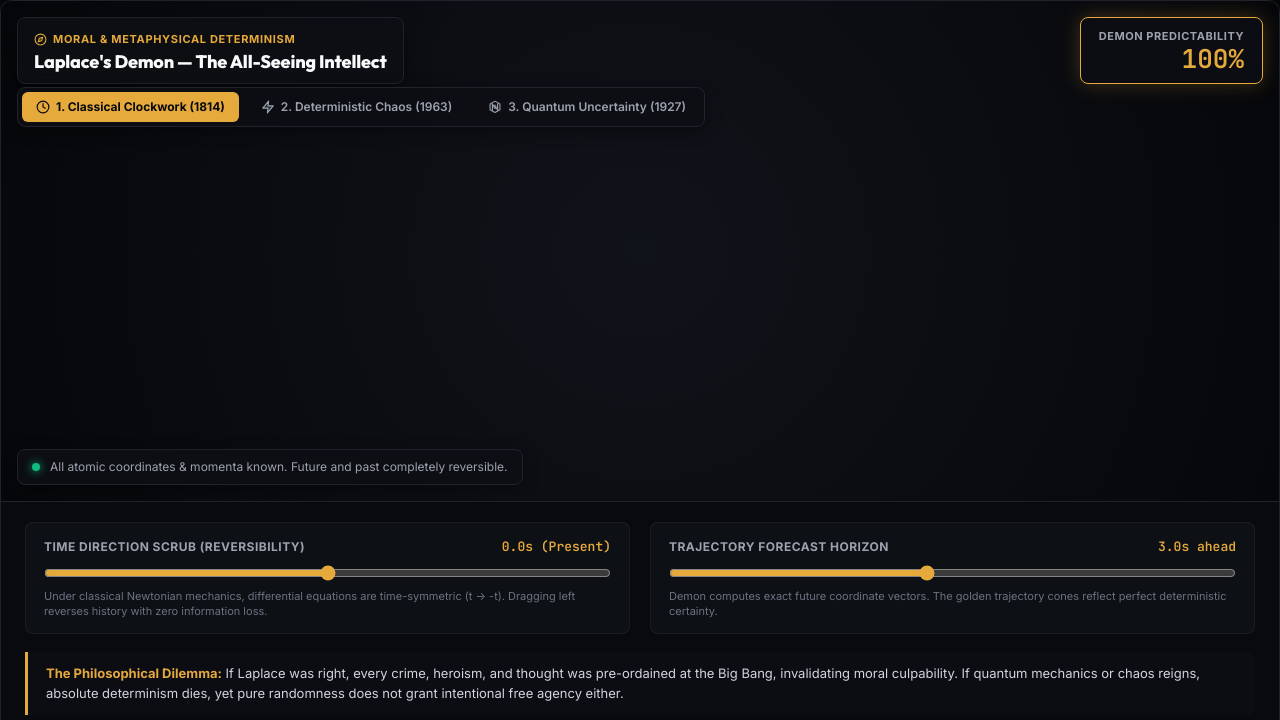
Test: LaplacesDemon3DLab › switches between Classical Clockwork, Chaos, and Quantum modes
// Click Deterministic Chaos
Click the button "2. Deterministic Chaos (1963)" at (356, 107), box top-left (247, 92), bottom-right (466, 122)
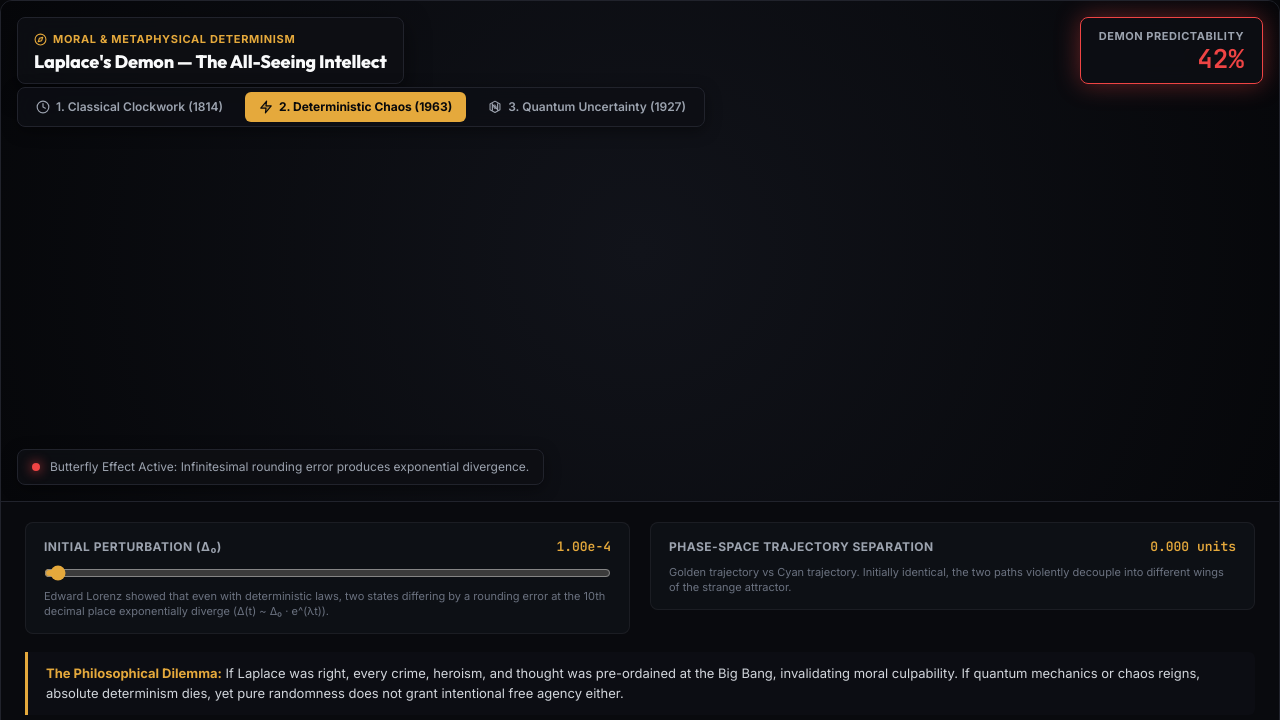
Result: the text "Initial Perturbation (Δ₀)" is shown at top-left (44, 538), bottom-right (222, 556)
Result: the text "Phase-Space Trajectory Separation" is shown at top-left (669, 538), bottom-right (934, 556)
// Click Quantum Uncertainty
Click the button "3. Quantum Uncertainty (1927)" at (587, 107), box top-left (474, 92), bottom-right (700, 122)
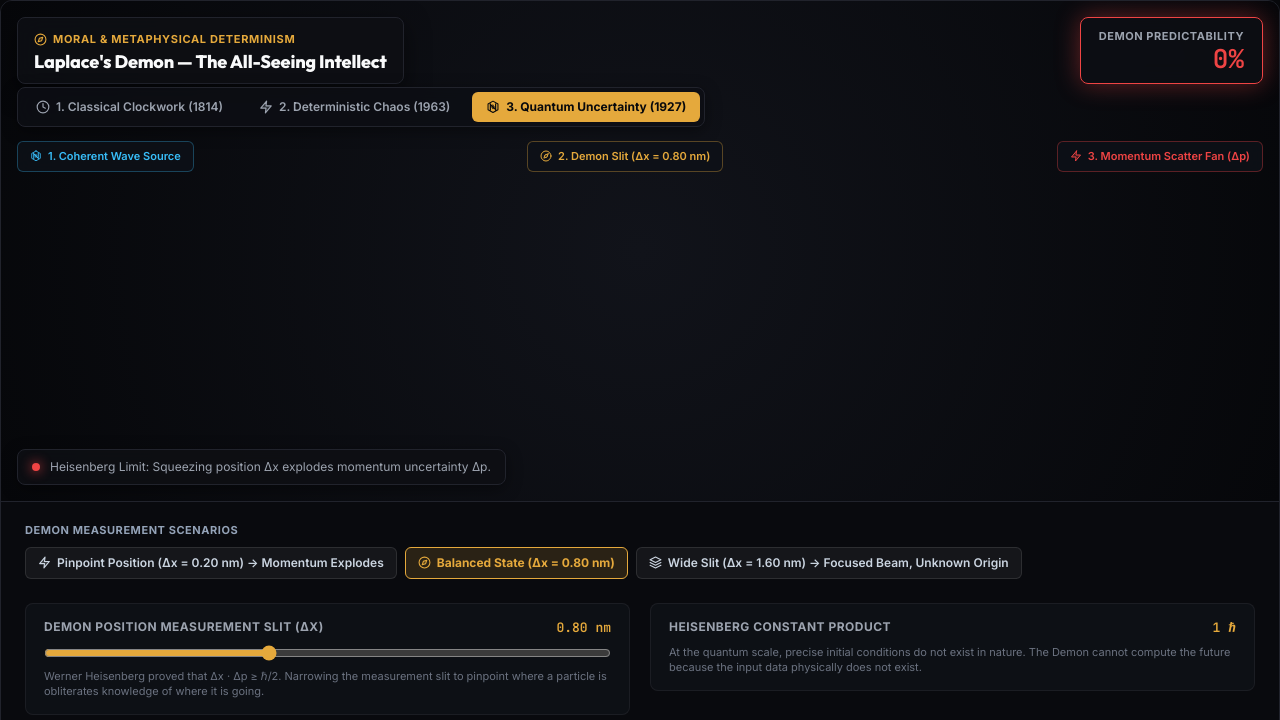
Result: the text "Demon Position Measurement Slit (Δx)" is shown at top-left (44, 618), bottom-right (324, 636)
Result: the text "Heisenberg Constant Product" is shown at top-left (669, 618), bottom-right (891, 636)
// Click Classical Clockwork back
Click the button "1. Classical Clockwork (1814)" at (129, 107), box top-left (22, 92), bottom-right (237, 122)
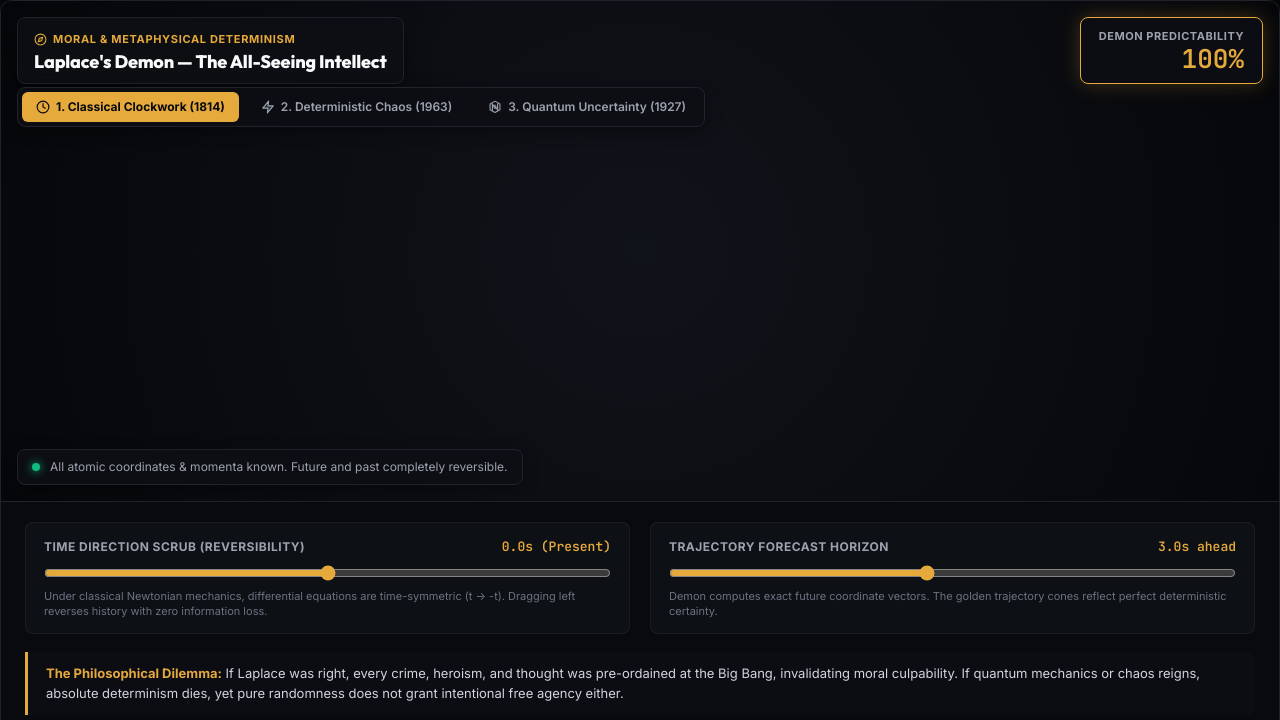
Result: the text "Time Direction Scrub (Reversibility)" is shown at top-left (44, 538), bottom-right (305, 556)
